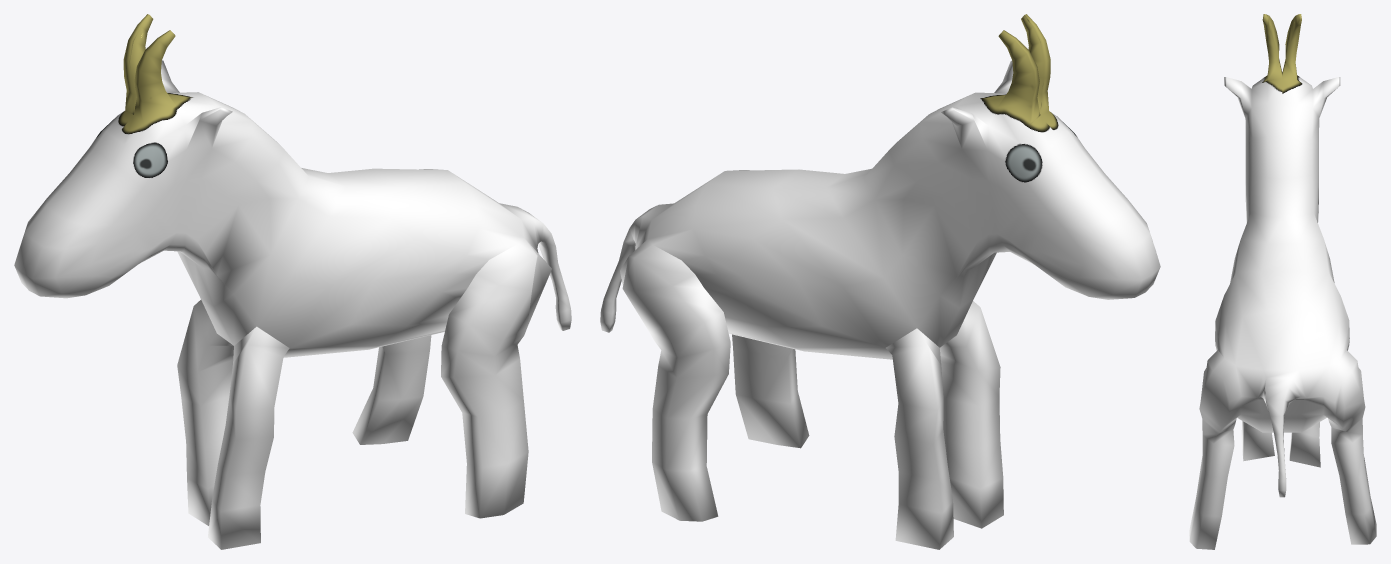
The model's file is goatAnim_000019.obj.
3 views of the same model, side by side, from view 1: azimuth 30°, elevation 25°; view 2: azimuth 150°, elevation 25°; view 3: azimuth 270°, elevation 25° (orthographic). The views are drawn at different scales.
Parts seen in each view (by area): view 1: Cube; view 2: Cube; view 3: Cube.
Part boxes in pixels (x1,y1,x2,y2): Cube: [14, 14, 571, 549]; Cube: [600, 14, 1160, 549]; Cube: [1189, 14, 1376, 549].
Size of the model in its own units: 1.31 by 1.19 by 0.4842.
